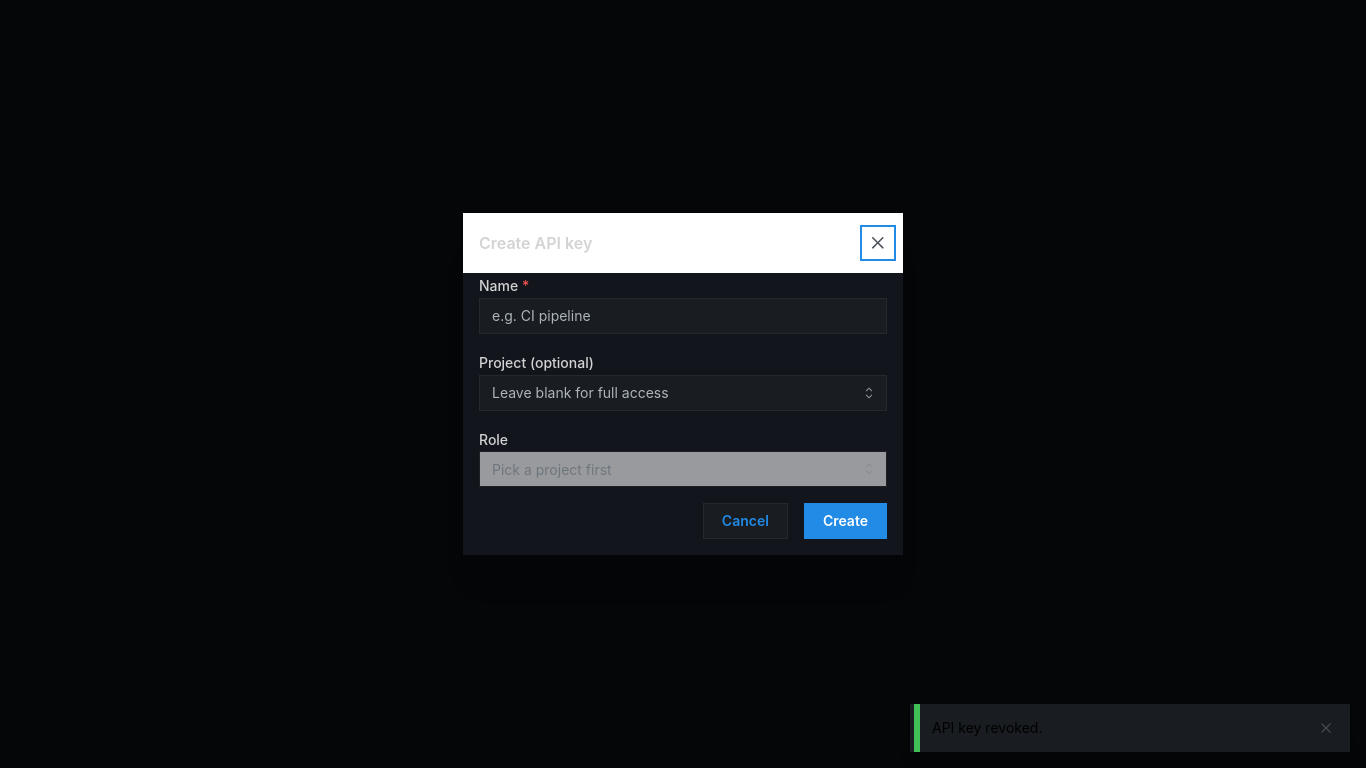
Scenario: CreateApiKeyModal validation › requires a role when a project is picked
Type "test-key" into the field labelled "Name *" at (683, 316), box x1=479 y1=298 x2=887 y2=334
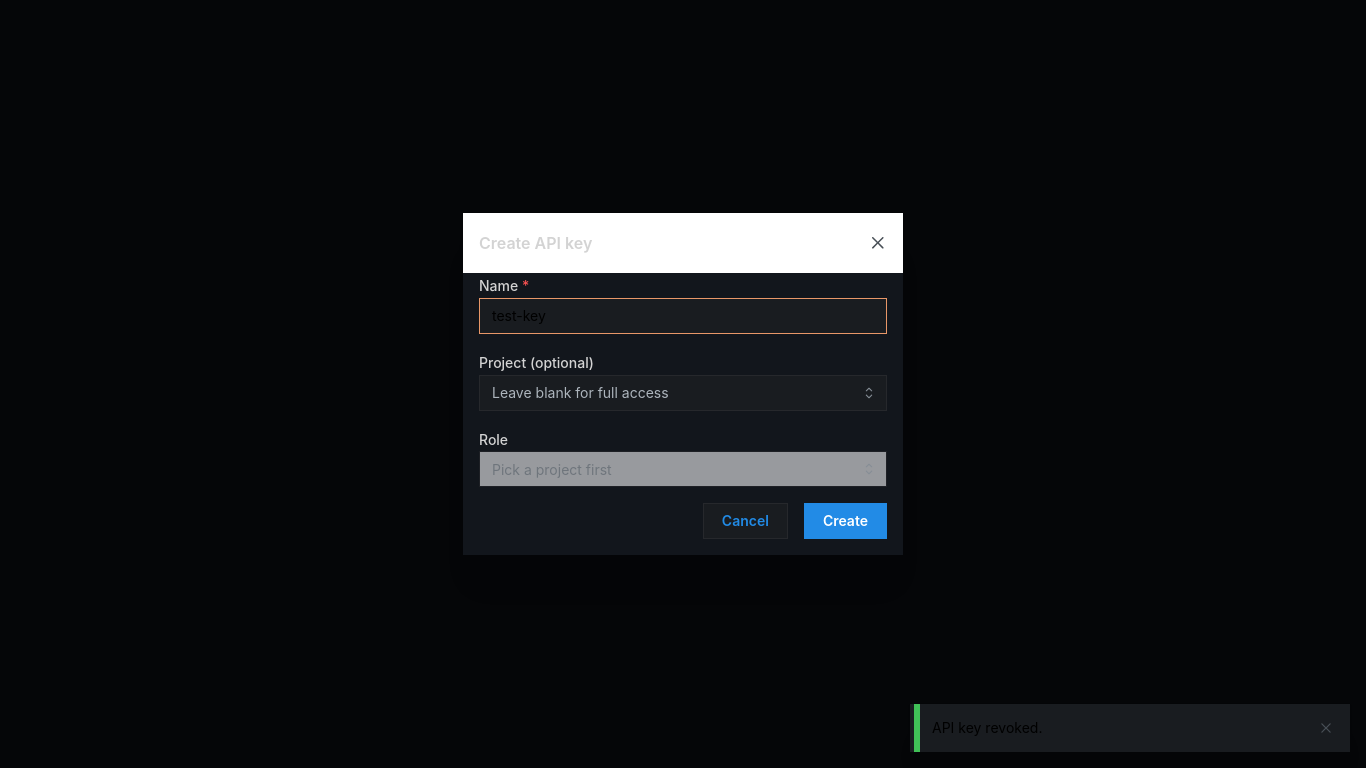
Click the field with placeholder "Leave blank for full access" at (683, 392), box x1=479 y1=374 x2=887 y2=410
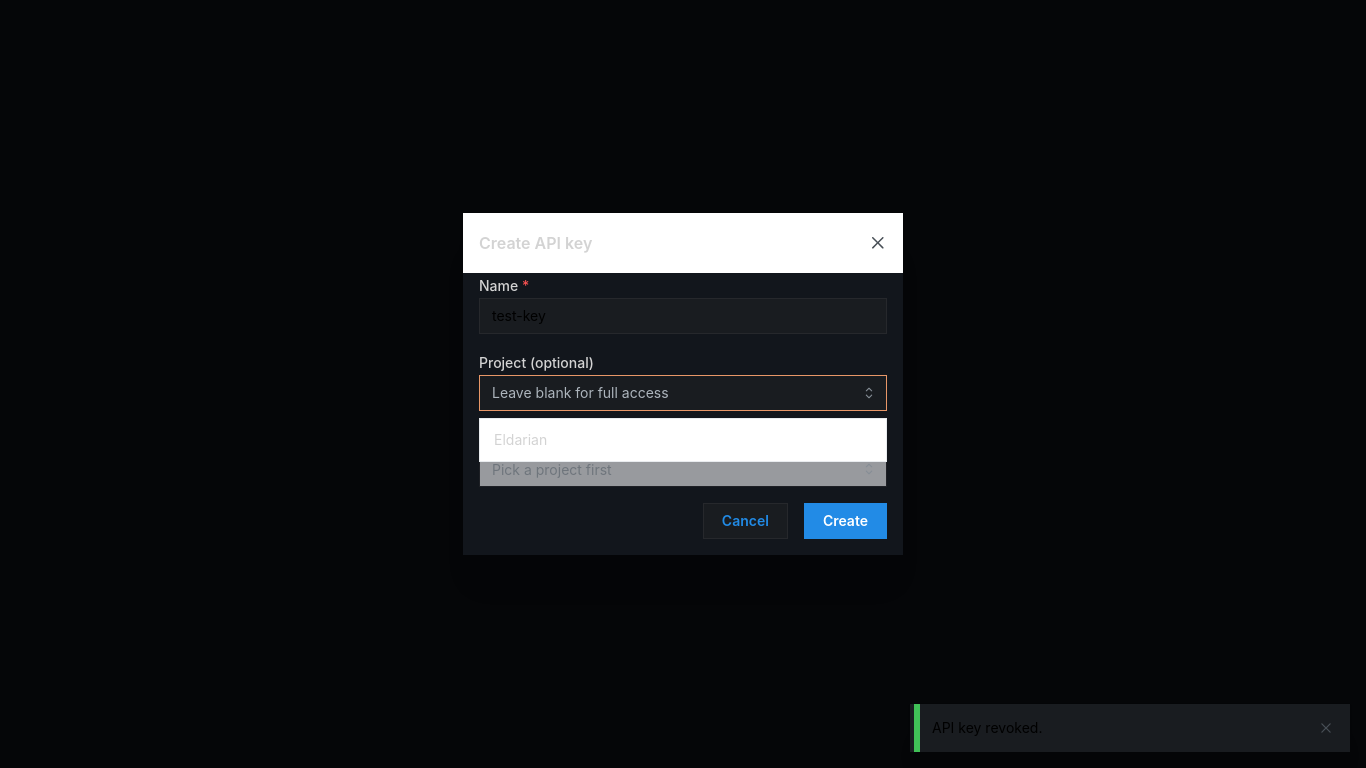
Click the option "Eldarian" at (521, 440), box x1=494 y1=431 x2=547 y2=448
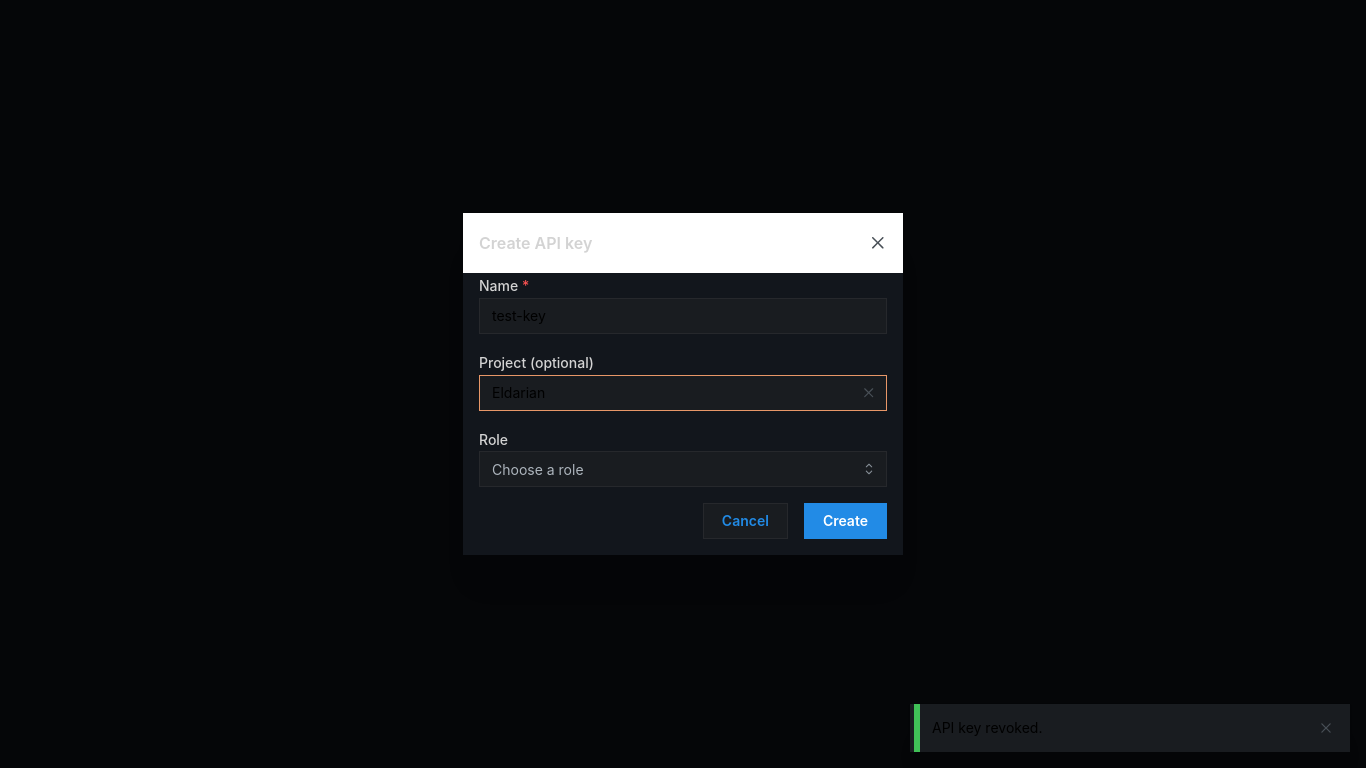
Click the button "Create" at (845, 521), box x1=804 y1=503 x2=887 y2=539
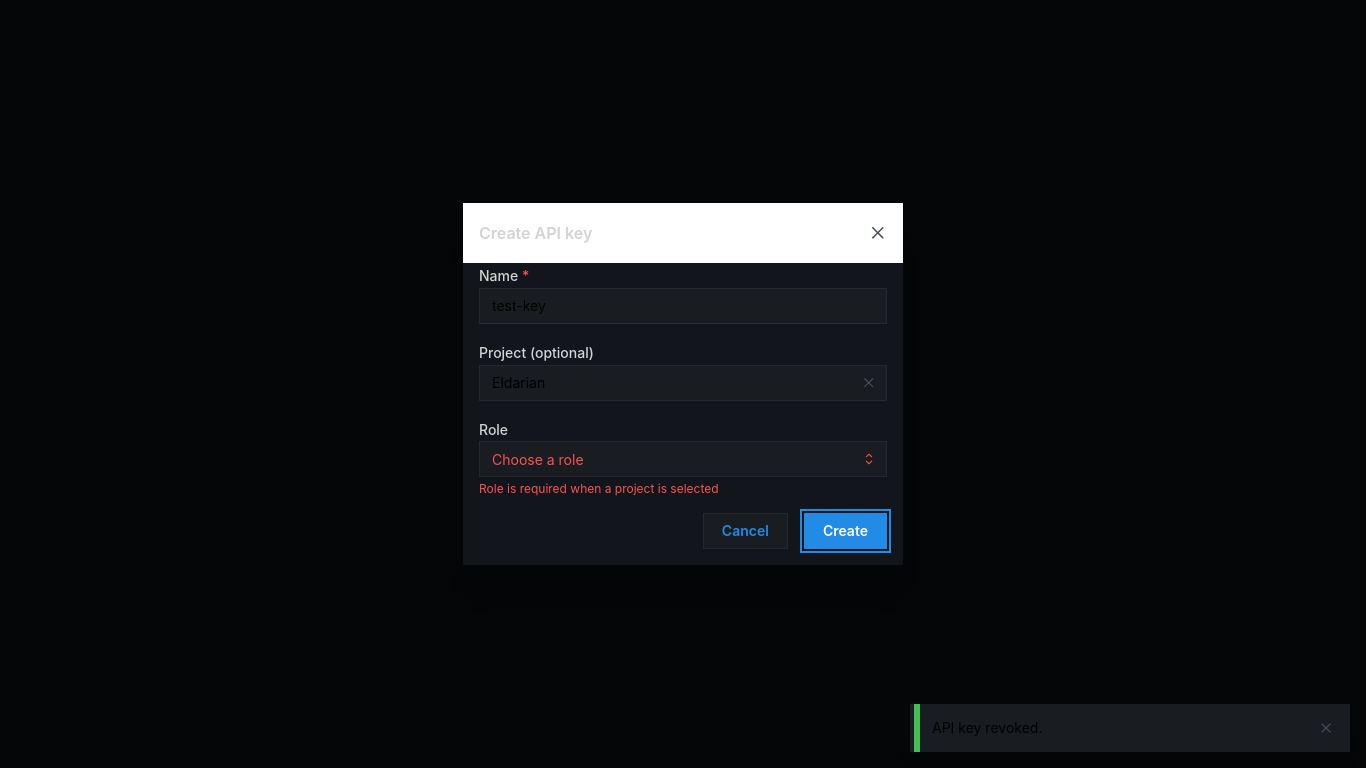
Check: the text "Role is required when a project is selected" is shown, box x1=479 y1=482 x2=719 y2=496
